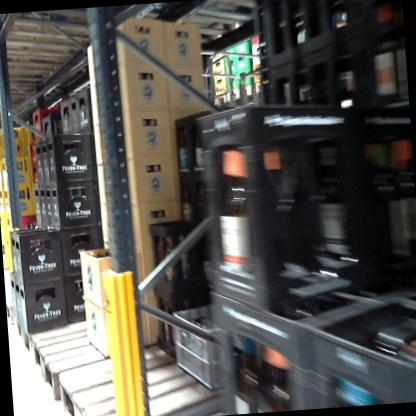pallet: (22, 311, 178, 400), (51, 350, 236, 416), (15, 307, 56, 364), (254, 66, 300, 96), (226, 81, 257, 110), (209, 87, 227, 111)
